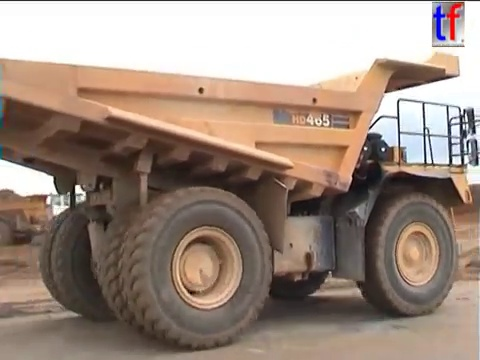truck: (1, 47, 480, 352), (1, 186, 93, 247)
